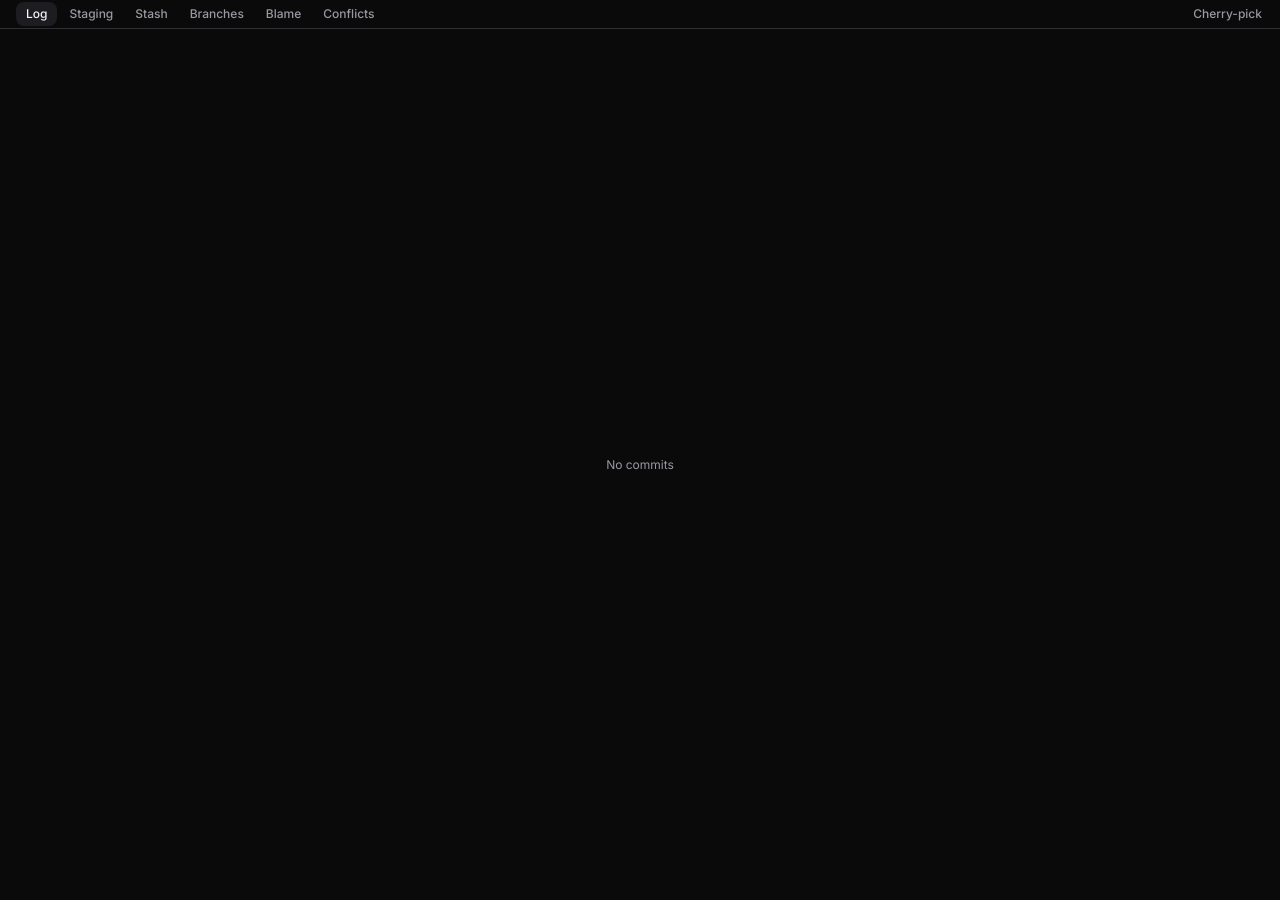
Scenario: GitPanel › opens the cherry-pick dialog
Click the button with test id "git-cherrypick-open". click: x=1228, y=14
box: [1183,0,1272,28]
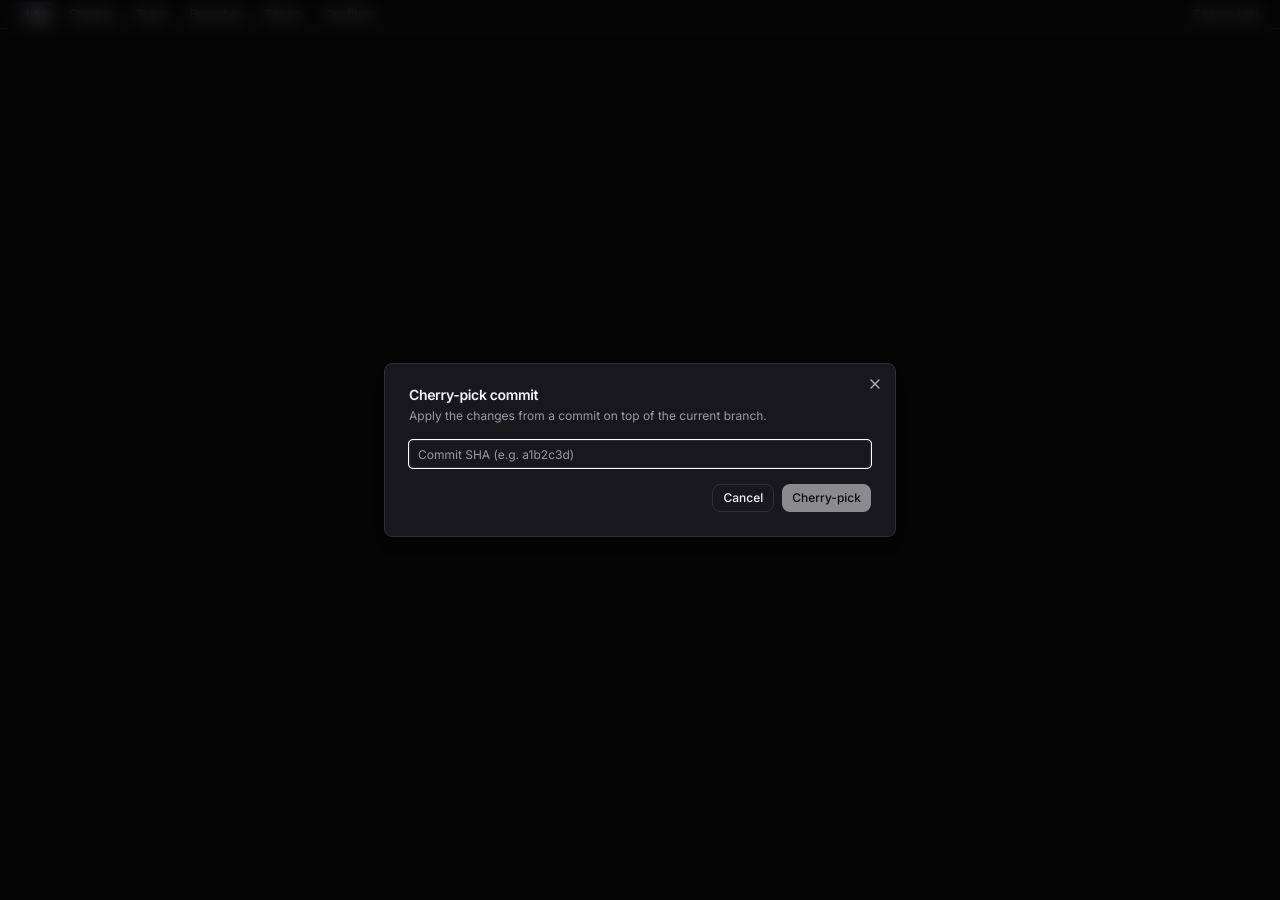
Now the dialog with test id "cherrypick-dialog" is shown, box [384,363,896,537]
